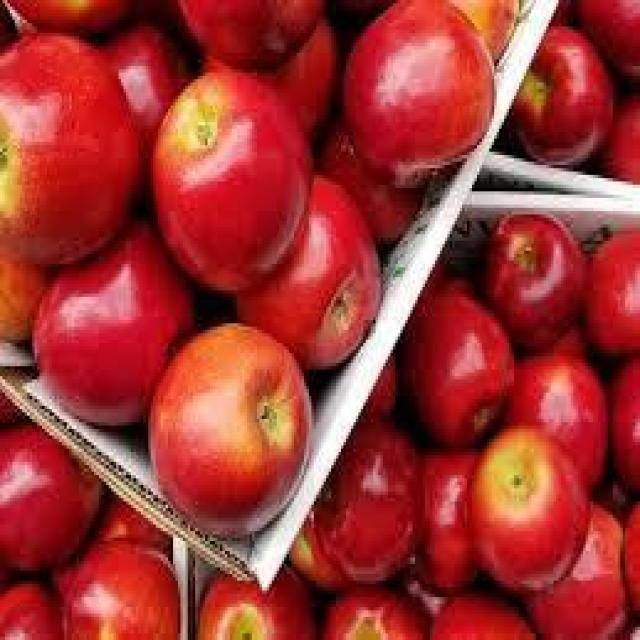maca: (0, 0, 519, 541)
